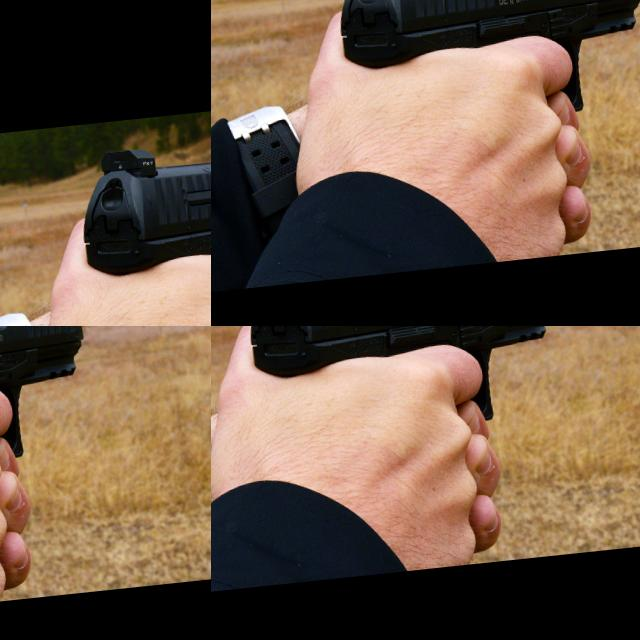handgun: (0, 136, 211, 326), (238, 326, 567, 446), (124, 148, 211, 326), (416, 14, 477, 66), (0, 406, 28, 499)
